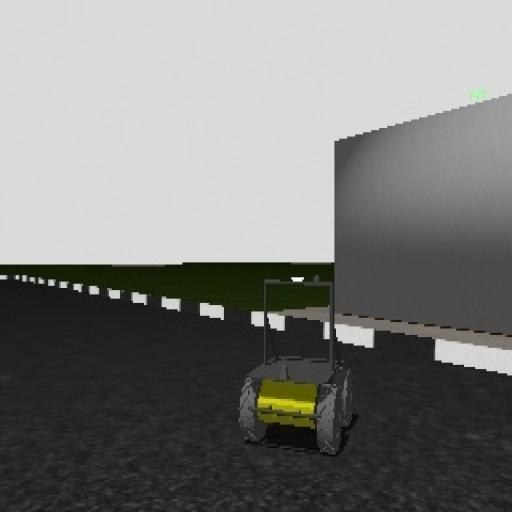huskya200: (232, 268, 362, 455)
